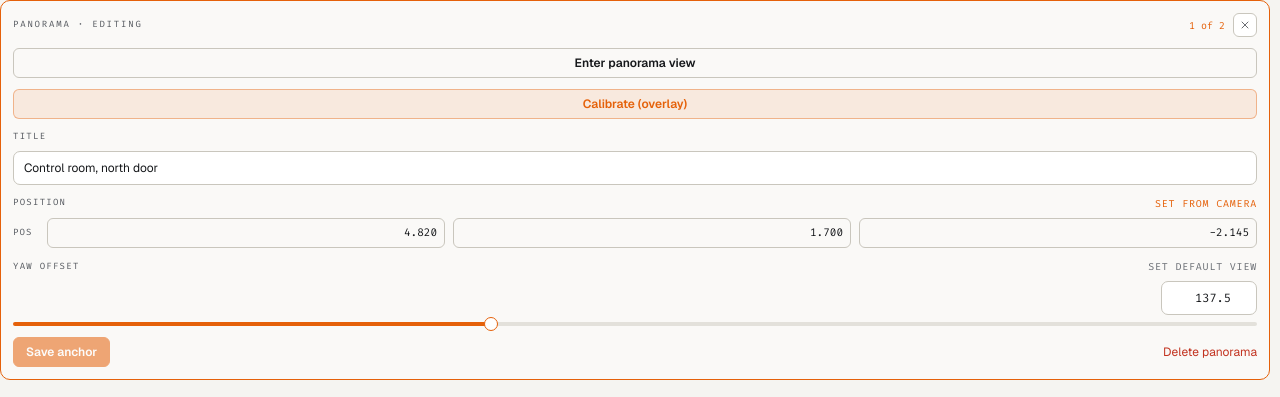
AnchorCard › reads the live camera into the position
Click the button "Set from camera": (1206, 203) x1=1155 y1=196 x2=1257 y2=210
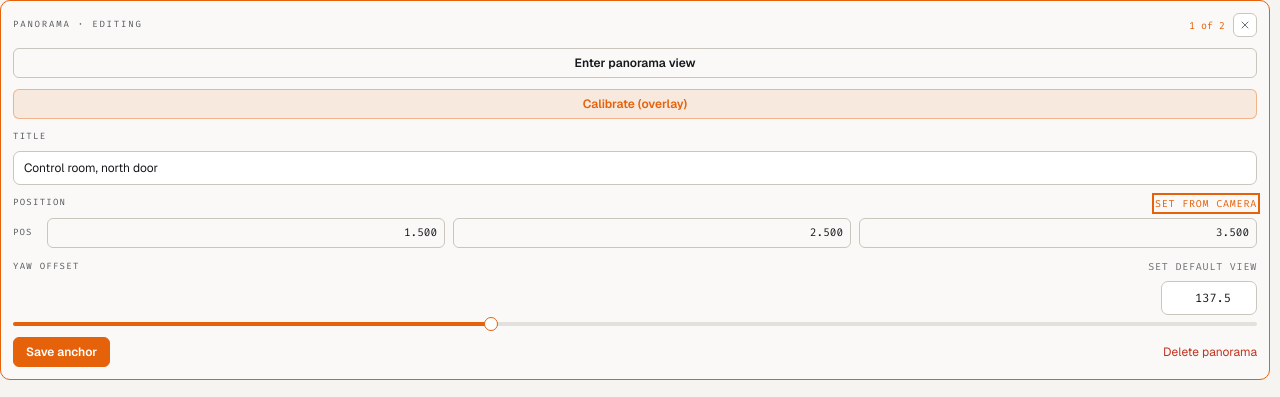
Check: the field named "Pos x" holds "1.500", box x1=47 y1=218 x2=445 y2=248
Check: the button "Save anchor" is enabled, box x1=13 y1=337 x2=110 y2=367
